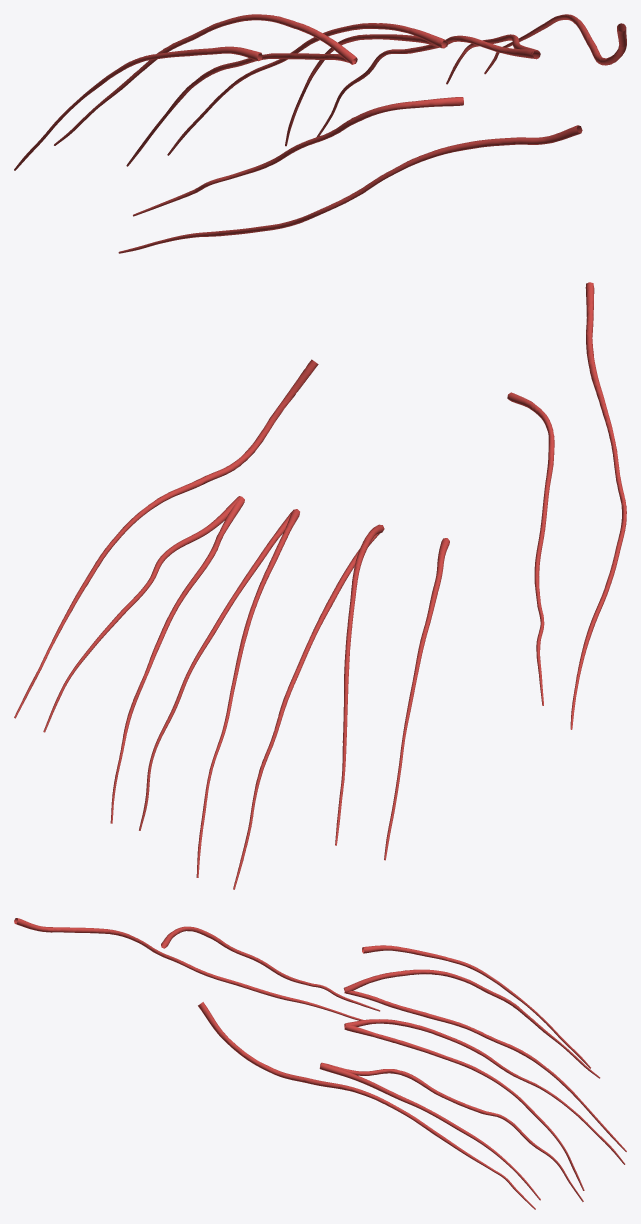
3 views of the same model, one above another, from view 1: azimuth 30°, elevation 25°; view 2: azimuth 150°, elevation 25°; view 3: azimuth 270°, elevation 25° (orthographic). The views are drawn at different scales.
Parts seen in each view (by area): view 1: 右侧指掌侧固有动脉; view 2: 右侧指掌侧固有动脉; view 3: 右侧指掌侧固有动脉.
Part boxes in pixels (left/top/right/bottom): 右侧指掌侧固有动脉: left=14, top=14, right=626, bottom=253; 右侧指掌侧固有动脉: left=14, top=282, right=626, bottom=889; 右侧指掌侧固有动脉: left=14, top=918, right=626, bottom=1209.
Size of the model in its own units: 0.1576 by 0.1052 by 0.2368.
